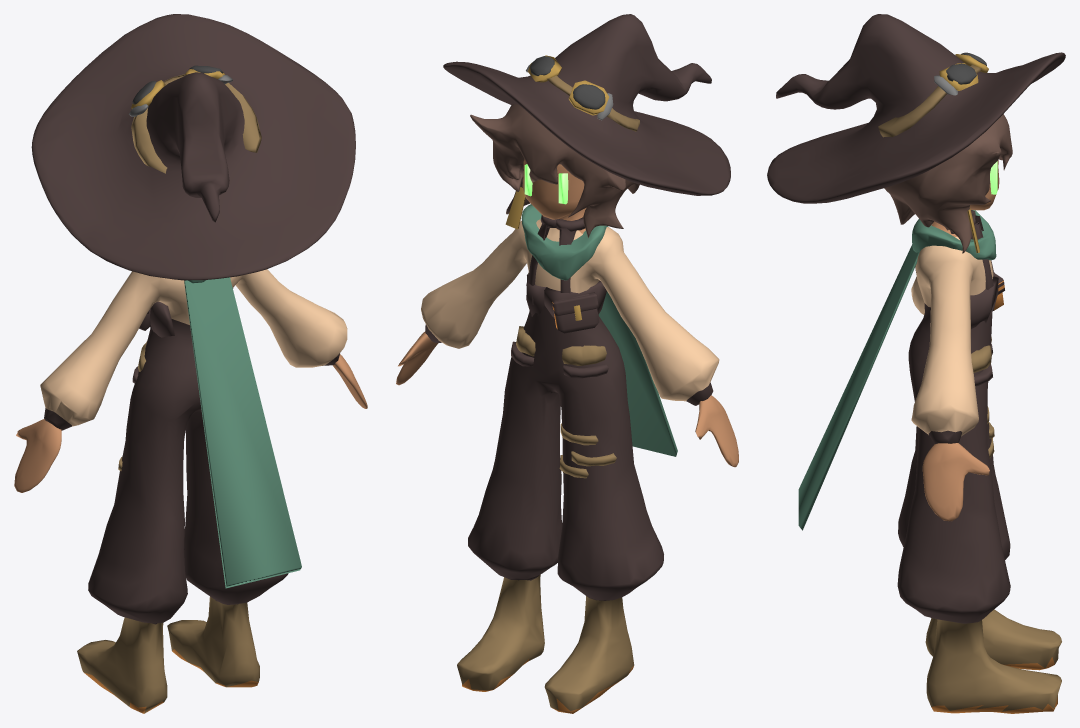
Rendered from yan.fbx.
3 views of the same model, side by side, from view 1: azimuth 30°, elevation 25°; view 2: azimuth 150°, elevation 25°; view 3: azimuth 270°, elevation 25° (orthographic). The views are drawn at different scales.
Visible parts, largest first — view 1: Cone, Sphere.001, Cube.001, Sphere, Cube.019, Cube.020, Cube.010; view 2: Sphere.001, Cone, Cube, Cube.001, Cube.009, Sphere, Cube.010, Cube.007, Cube.017, Cube.011, Cube.014, Cube.021 (+3 smaller); view 3: Sphere.001, Cone, Cube, Cube.001, Sphere, Cube.009, Cube.020, Cube.010, Cube.017, Cube.016.
Boxes of the visible parts, <box> form: Cone: <box>31,14,355,280</box>; Sphere.001: <box>40,269,347,713</box>; Cube.001: <box>184,277,301,588</box>; Sphere: <box>14,354,367,492</box>; Cube.019: <box>131,108,167,173</box>; Cube.020: <box>225,82,261,152</box>; Cube.010: <box>150,288,233,337</box>; Sphere.001: <box>421,159,719,713</box>; Cone: <box>443,14,730,195</box>; Cube: <box>470,104,639,237</box>; Cube.001: <box>598,291,677,456</box>; Cube.009: <box>521,204,608,280</box>; Sphere: <box>396,331,738,467</box>; Cube.010: <box>526,273,606,317</box>; Cube.007: <box>516,326,606,365</box>; Cube.017: <box>530,56,605,109</box>; Cube.011: <box>554,293,599,333</box>; Cube.014: <box>511,341,608,378</box>; Cube.021: <box>528,223,576,306</box>; Sphere.001: <box>897,160,1061,713</box>; Cone: <box>767,14,1065,203</box>; Cube: <box>884,114,1012,253</box>; Cube.001: <box>798,244,918,530</box>; Sphere: <box>922,443,989,521</box>; Cube.009: <box>912,210,996,260</box>; Cube.020: <box>878,86,946,137</box>; Cube.010: <box>970,271,998,329</box>; Cube.017: <box>946,52,986,84</box>; Cube.016: <box>939,54,988,90</box>.
Bounding box in the file's own units: 862 × 1547 × 636.
